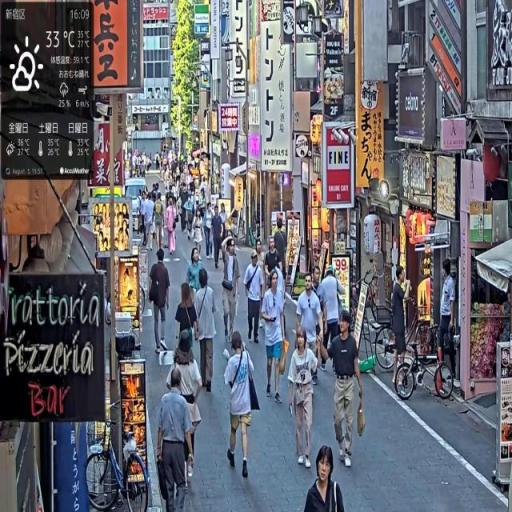person: (319, 309, 366, 467), (225, 329, 263, 480), (157, 364, 195, 512), (288, 328, 320, 471), (176, 344, 204, 480), (262, 270, 289, 404), (193, 266, 220, 395), (317, 262, 347, 373), (295, 274, 325, 377), (304, 446, 348, 512), (438, 259, 458, 389), (149, 247, 172, 357), (222, 237, 243, 347), (392, 266, 411, 383), (175, 285, 200, 366), (245, 250, 265, 345), (212, 205, 226, 272), (165, 197, 179, 260)
